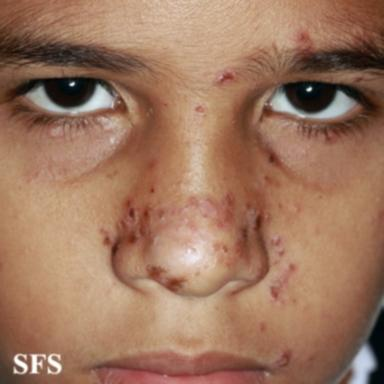Impetigo: (97, 172, 282, 270), (144, 263, 188, 293), (270, 263, 296, 300), (268, 233, 286, 258), (214, 70, 239, 86), (275, 347, 292, 368), (295, 28, 311, 50), (193, 104, 206, 115)
